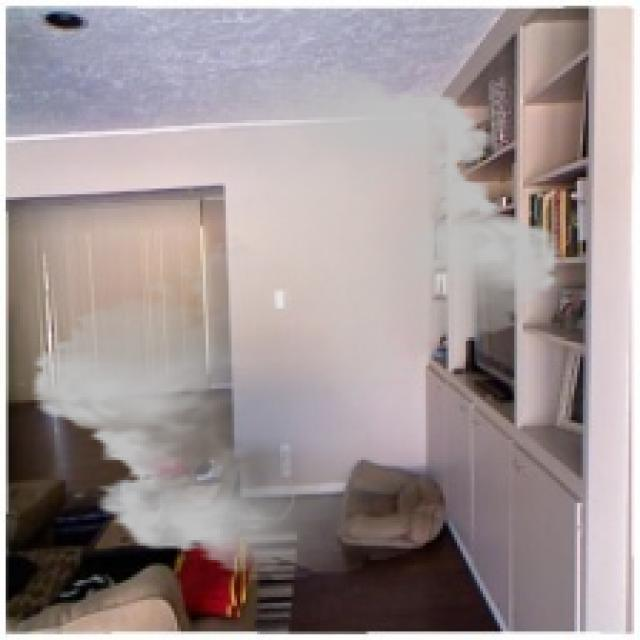Smoke: (14, 63, 577, 580)
